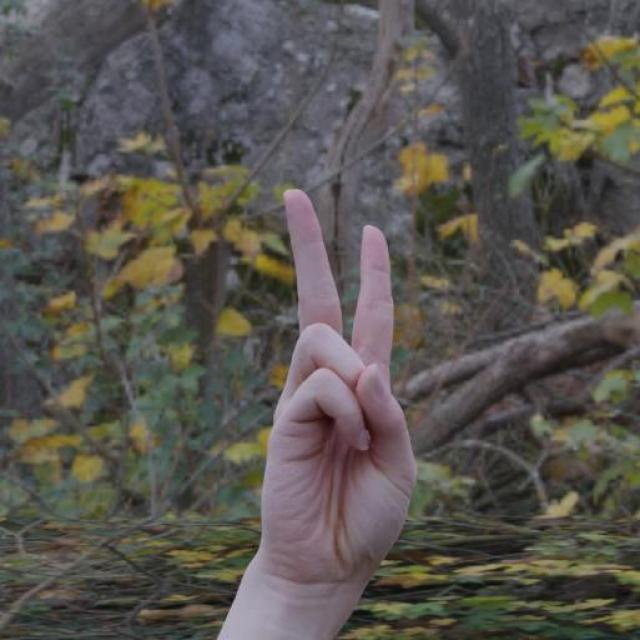V: (227, 182, 420, 583)
